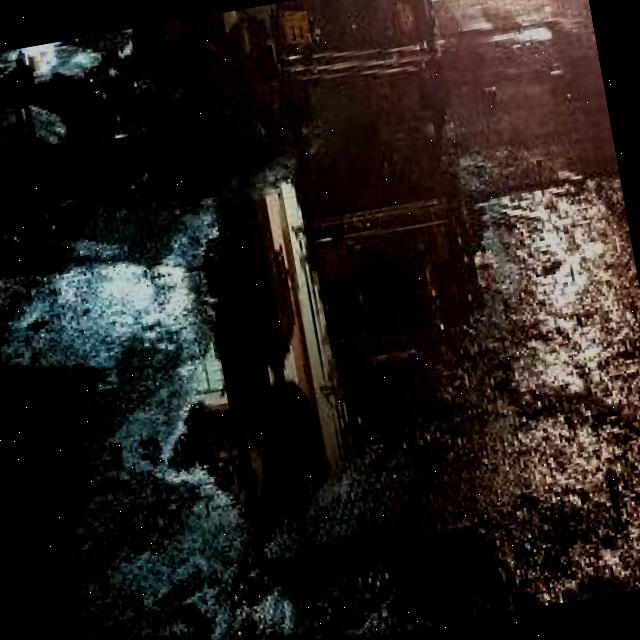waterlogging: (64, 216, 488, 558), (270, 26, 616, 216)
